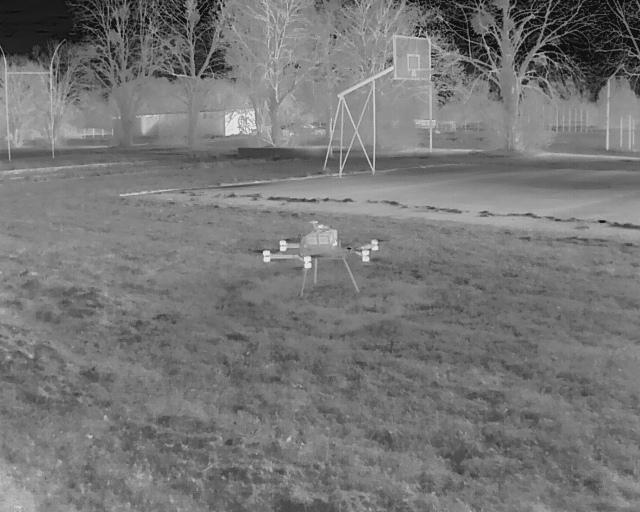drone: (260, 216, 389, 298)
